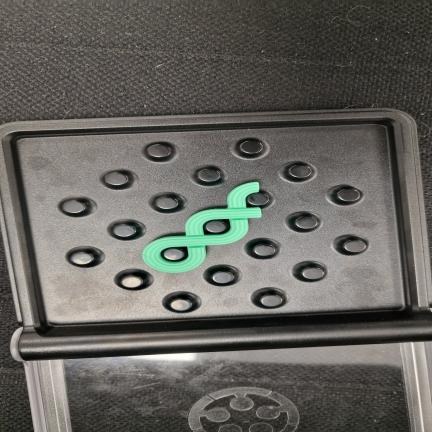F_Teal: (143, 182, 261, 273)
board: (0, 109, 432, 360)
hinge: (16, 321, 432, 351)
pin: (147, 144, 171, 159), (288, 164, 312, 179), (197, 168, 221, 183), (337, 188, 360, 203), (239, 140, 263, 154), (104, 172, 128, 186), (62, 200, 86, 214), (155, 196, 179, 210), (204, 220, 228, 234), (70, 251, 94, 265), (294, 216, 317, 230), (343, 239, 366, 253), (252, 243, 276, 256), (247, 192, 269, 206), (212, 270, 234, 284), (113, 224, 136, 237), (120, 275, 143, 288), (170, 298, 193, 311), (260, 294, 283, 307), (163, 248, 185, 261), (302, 267, 324, 280)
